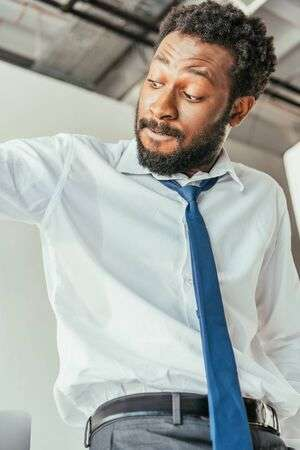F_shirt: (1, 133, 300, 425)
F_tie: (171, 179, 248, 442)
